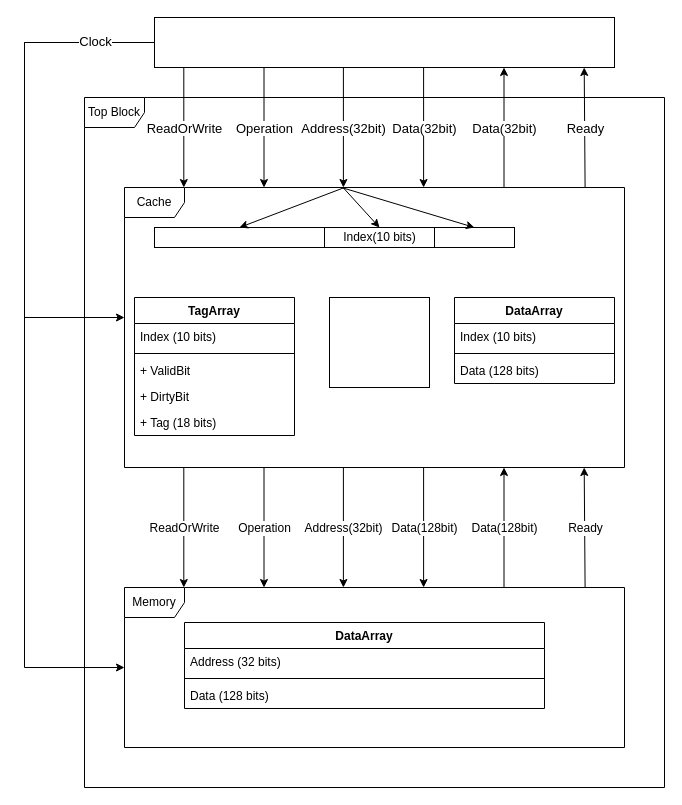
The diagram is 682 pixels wide and 805 high, and some of its shapes have lost their labels. Here are the shapes that lost their labels. From the top down, the centre of each, then its label:
the point at 384,42: TestBench
the point at 239,237: Tag(18 bits)
the point at 474,237: Offset(4 bits)
the point at 379,342: State Idle CompareTag Allocate WriteBack
